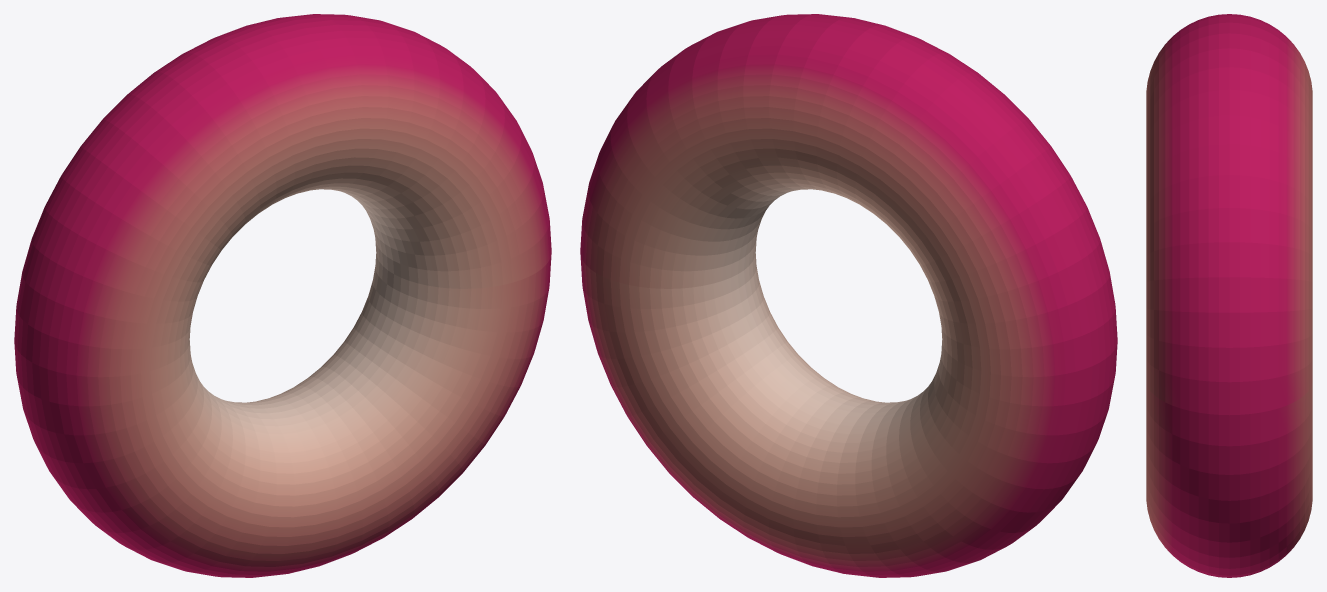
3 views of the same model, side by side, from view 1: azimuth 30°, elevation 25°; view 2: azimuth 150°, elevation 25°; view 3: azimuth 270°, elevation 25° (orthographic). The views are drawn at different scales.
Visible parts, largest first — view 1: world; view 2: world; view 3: world.
Boxes of the visible parts, bbox=[...] form: world: bbox=[14, 14, 551, 577]; world: bbox=[580, 14, 1117, 577]; world: bbox=[1146, 14, 1312, 577].
Bounding box in the file's own units: 28.4 × 28.34 × 8.38.
